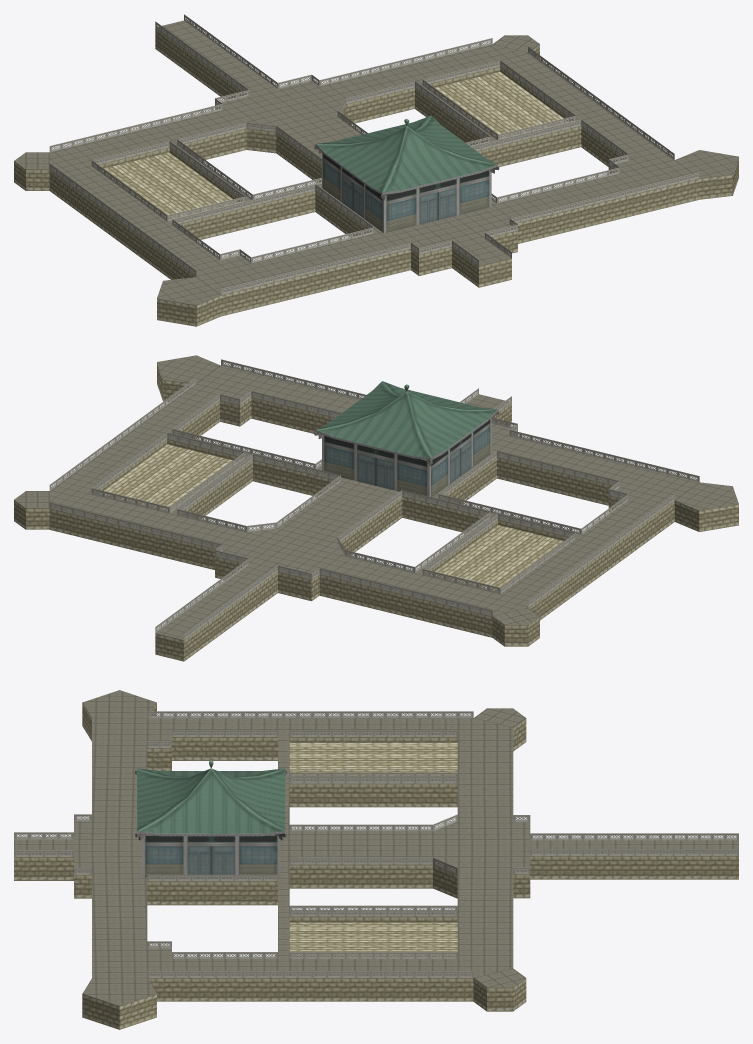
Rendered from ChBower.fbx.
3 views of the same model, one above another, from view 1: azimuth 30°, elevation 25°; view 2: azimuth 150°, elevation 25°; view 3: azimuth 270°, elevation 25° (orthographic). The views are drawn at different scales.
Parts seen in each view (by area): view 1: ChFoundation, ChBower_02; view 2: ChFoundation, ChBower_02; view 3: ChFoundation, ChBower_02.
Boxes of the visible parts, x1,y1,x2,y2 form: ChFoundation: (14, 14, 738, 326); ChBower_02: (314, 115, 499, 233); ChFoundation: (14, 355, 738, 661); ChBower_02: (314, 381, 499, 497); ChFoundation: (14, 690, 738, 1029); ChBower_02: (135, 760, 286, 877).
Bounding box in the file's own units: 5232 × 861 × 5071.
6 materials, 6 textured.
